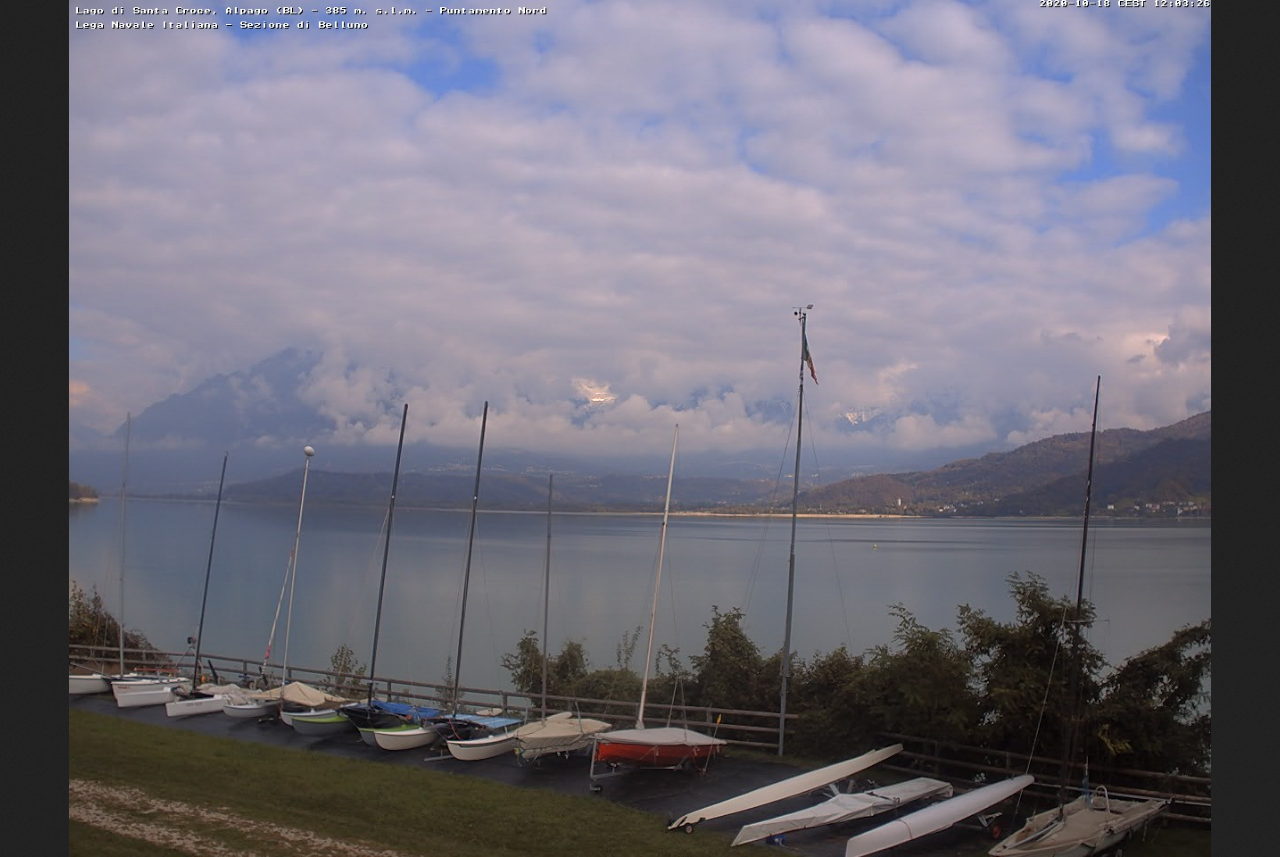no: (801, 328, 817, 387)
